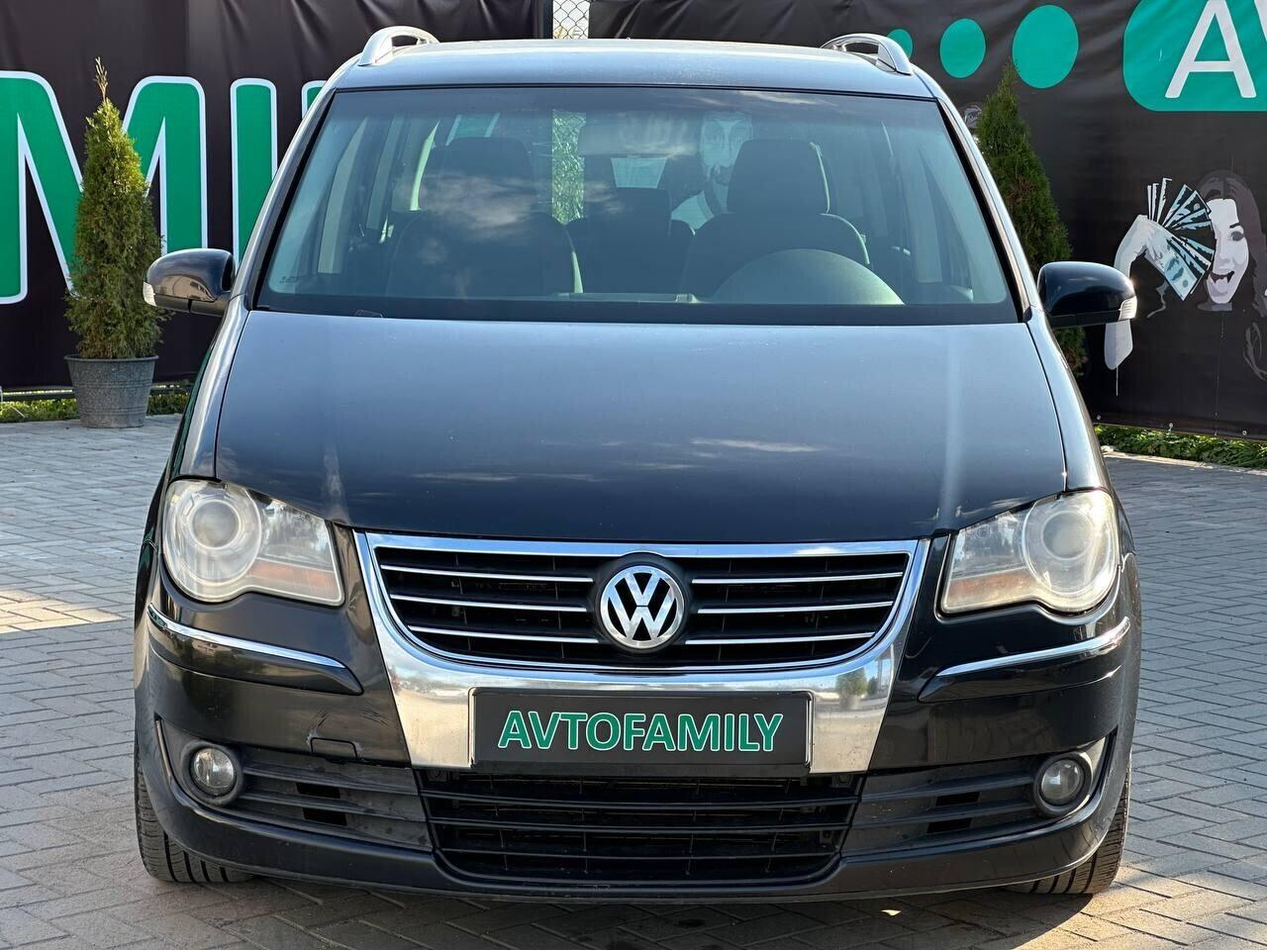Touran_2006-2010: (127, 30, 1141, 909)
